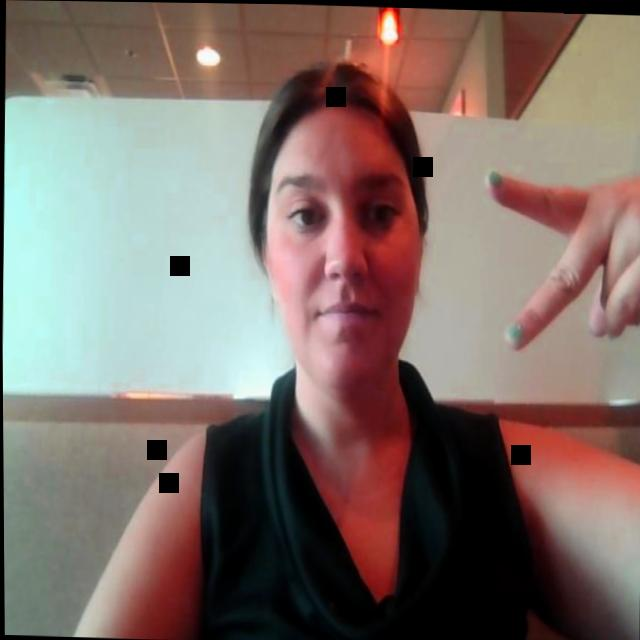Scissors: (466, 115, 640, 412)
